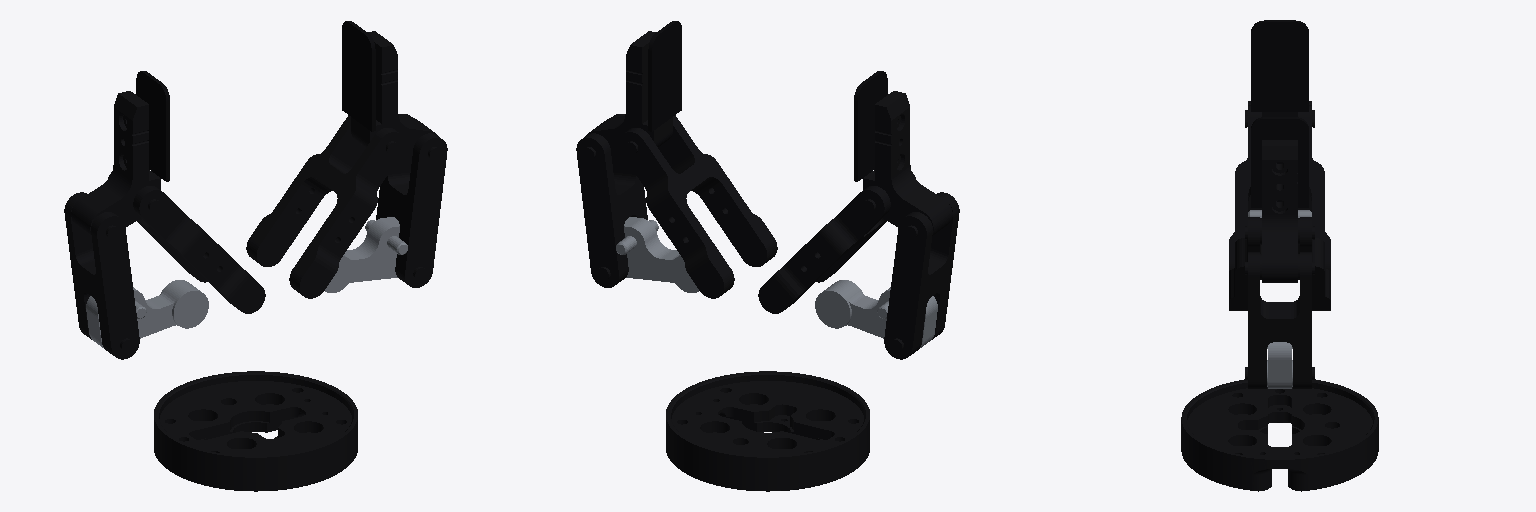
URDF robot description (robotiq_2f85):
<?xml version='1.0' encoding='utf-8'?>
<robot name="robotiq_2f85">
  <mujoco>
    <compiler discardvisual="false" fusestatic="false" />
  </mujoco>
  <link name="robotiq_2f85_mount" />
  <link name="robotiq_2f85_base_mount">
    <visual>
      <origin xyz="0 0 0" rpy="0 0 0" />
      <geometry>
        <mesh filename="robotiq_2f85_meshes/base_mount.obj" />
      </geometry>
      <material name="base_mount_material">
        <color rgba="0.1 0.1 0.11 1" />
      </material>
    </visual>
    <collision>
      <origin xyz="0 0 0" rpy="0 0 0" />
      <geometry>
        <mesh filename="robotiq_2f85_meshes/base_mount.obj" />
      </geometry>
    </collision>
  </link>
  <link name="robotiq_2f85_base">
    <inertial>
      <origin xyz="0 0 0" rpy="0 0 0" />
      <mass value="0.777441" />
      <inertia ixx="0.000260285" ixy="0" ixz="0" iyy="0.000225381" iyz="0" izz="0.000152708" />
    </inertial>
    <visual>
      <origin xyz="0 0 0" rpy="0 0 0" />
      <geometry>
        <mesh filename="robotiq_2f85_meshes/base.obj" />
      </geometry>
      <material name="base_material">
        <color rgba="0.1 0.1 0.11 1" />
      </material>
    </visual>
    <collision>
      <origin xyz="0 0 0" rpy="0 0 0" />
      <geometry>
        <mesh filename="robotiq_2f85_meshes/base.obj" />
      </geometry>
    </collision>
  </link>
  <joint name="robotiq_2f85_base_mount_joint" type="fixed">
    <origin xyz="0 0 0.007" rpy="0 0 0" />
    <parent link="robotiq_2f85_mount" />
    <child link="robotiq_2f85_base_mount" />
  </joint>
  <joint name="robotiq_2f85_base_joint" type="fixed">
    <origin xyz="0 0 0.0038" rpy="0 0 -1.57079633" />
    <parent link="robotiq_2f85_base_mount" />
    <child link="robotiq_2f85_base" />
  </joint>
  <link name="robotiq_2f85_right_driver">
    <inertial>
      <origin xyz="0 0 0" rpy="0 0 0" />
      <mass value="0.00899563" />
      <inertia ixx="1e-06" ixy="0" ixz="0" iyy="1e-06" iyz="0" izz="1e-06" />
    </inertial>
    <visual>
      <origin xyz="0 0 0" rpy="0 0 0" />
      <geometry>
        <mesh filename="robotiq_2f85_meshes/driver.obj" />
      </geometry>
      <material name="driver_material">
        <color rgba="0.5 0.52 0.55 1" />
      </material>
    </visual>
    <collision>
      <origin xyz="0 0 0" rpy="0 0 0" />
      <geometry>
        <mesh filename="robotiq_2f85_meshes/driver.obj" />
      </geometry>
    </collision>
  </link>
  <link name="robotiq_2f85_right_coupler">
    <inertial>
      <origin xyz="0 0 0" rpy="0 0 0" />
      <mass value="0.0140974" />
      <inertia ixx="1e-06" ixy="0" ixz="0" iyy="1e-06" iyz="0" izz="1e-06" />
    </inertial>
    <visual>
      <origin xyz="0 0 0" rpy="0 0 0" />
      <geometry>
        <mesh filename="robotiq_2f85_meshes/coupler.obj" />
      </geometry>
      <material name="coupler_material">
        <color rgba="0.1 0.1 0.11 1" />
      </material>
    </visual>
    <collision>
      <origin xyz="0 0 0" rpy="0 0 0" />
      <geometry>
        <mesh filename="robotiq_2f85_meshes/coupler.obj" />
      </geometry>
    </collision>
  </link>
  <link name="robotiq_2f85_right_spring_link">
    <inertial>
      <origin xyz="0 0 0" rpy="0 0 0" />
      <mass value="0.0221642" />
      <inertia ixx="1e-06" ixy="0" ixz="0" iyy="1e-06" iyz="0" izz="1e-06" />
    </inertial>
    <visual>
      <origin xyz="0 0 0" rpy="0 0 0" />
      <geometry>
        <mesh filename="robotiq_2f85_meshes/spring_link.obj" />
      </geometry>
      <material name="spring_link_material">
        <color rgba="0.1 0.1 0.11 1" />
      </material>
    </visual>
    <collision>
      <origin xyz="0 0 0" rpy="0 0 0" />
      <geometry>
        <mesh filename="robotiq_2f85_meshes/spring_link.obj" />
      </geometry>
    </collision>
  </link>
  <link name="robotiq_2f85_right_follower">
    <inertial>
      <origin xyz="0 0 0" rpy="0 0 0" />
      <mass value="0.0125222" />
      <inertia ixx="1e-06" ixy="0" ixz="0" iyy="1e-06" iyz="0" izz="1e-06" />
    </inertial>
    <visual>
      <origin xyz="0 0 0" rpy="0 0 0" />
      <geometry>
        <mesh filename="robotiq_2f85_meshes/follower.obj" />
      </geometry>
      <material name="follower_material">
        <color rgba="0.1 0.1 0.11 1" />
      </material>
    </visual>
    <collision>
      <origin xyz="0 0 0" rpy="0 0 0" />
      <geometry>
        <mesh filename="robotiq_2f85_meshes/follower.obj" />
      </geometry>
    </collision>
  </link>
  <link name="robotiq_2f85_right_pad">
    <inertial>
      <origin xyz="0 0 0" rpy="0 0 0" />
      <mass value="0.0035" />
      <inertia ixx="1e-06" ixy="0" ixz="0" iyy="1e-06" iyz="0" izz="1e-06" />
    </inertial>
    <visual>
      <origin xyz="0 0 0" rpy="0 0 0" />
      <geometry>
        <mesh filename="robotiq_2f85_meshes/pad.obj" />
      </geometry>
      <material name="pad_material">
        <color rgba="0.42 0.43 0.45 1" />
      </material>
    </visual>
    <collision>
      <origin xyz="0 0 0" rpy="0 0 0" />
      <geometry>
        <mesh filename="robotiq_2f85_meshes/pad.obj" />
      </geometry>
    </collision>
    <collision>
      <origin xyz="0 -0.0026 0.028125" rpy="0 0 0" />
      <geometry>
        <box size="0.022 0.008 0.01875" />
      </geometry>
    </collision>
    <collision>
      <origin xyz="0 -0.0026 0.009375" rpy="0 0 0" />
      <geometry>
        <box size="0.022 0.008 0.01875" />
      </geometry>
    </collision>
  </link>
  <link name="robotiq_2f85_right_silicone_pad">
    <inertial>
      <origin xyz="0 0 0" rpy="0 0 0" />
      <mass value="0.0005" />
      <inertia ixx="1e-06" ixy="0" ixz="0" iyy="1e-06" iyz="0" izz="1e-06" />
    </inertial>
    <visual>
      <origin xyz="0 0 0" rpy="0 0 0" />
      <geometry>
        <mesh filename="robotiq_2f85_meshes/silicone_pad.obj" />
      </geometry>
      <material name="silicone_pad_material">
        <color rgba="0.08 0.08 0.09 1" />
      </material>
    </visual>
    <collision>
      <origin xyz="0 0 0" rpy="0 0 0" />
      <geometry>
        <mesh filename="robotiq_2f85_meshes/silicone_pad.obj" />
      </geometry>
    </collision>
  </link>
  <joint name="robotiq_2f85_right_driver_joint" type="revolute">
    <origin xyz="0 0.0306011 0.054904" rpy="0 0 0" />
    <parent link="robotiq_2f85_base" />
    <child link="robotiq_2f85_right_driver" />
    <axis xyz="1 0 0" />
    <limit lower="0" upper="0.8" effort="20" velocity="2" />
    <dynamics damping="0.05" friction="0.01" />
  </joint>
  <joint name="robotiq_2f85_right_coupler_joint" type="revolute">
    <origin xyz="0 0.0315 -0.0041" rpy="0 0 0" />
    <parent link="robotiq_2f85_right_driver" />
    <child link="robotiq_2f85_right_coupler" />
    <axis xyz="1 0 0" />
    <limit lower="-1.57" upper="0" effort="20" velocity="2" />
    <dynamics damping="0.05" friction="0.01" />
  </joint>
  <joint name="robotiq_2f85_right_spring_link_joint" type="revolute">
    <origin xyz="0 0.0132 0.0609" rpy="0 0 0" />
    <parent link="robotiq_2f85_base" />
    <child link="robotiq_2f85_right_spring_link" />
    <axis xyz="1 0 0" />
    <limit lower="-0.296706" upper="0.8" effort="20" velocity="2" />
    <dynamics damping="0.05" friction="0.01" />
  </joint>
  <joint name="robotiq_2f85_right_follower_joint" type="revolute">
    <origin xyz="0 0.055 0.0375" rpy="0 0 0" />
    <parent link="robotiq_2f85_right_spring_link" />
    <child link="robotiq_2f85_right_follower" />
    <axis xyz="1 0 0" />
    <limit lower="-0.872665" upper="0.872665" effort="20" velocity="2" />
    <dynamics damping="0.05" friction="0.01" />
  </joint>
  <joint name="robotiq_2f85_right_pad_joint" type="fixed">
    <origin xyz="0 -0.0189 0.01352" rpy="0 0 0" />
    <parent link="robotiq_2f85_right_follower" />
    <child link="robotiq_2f85_right_pad" />
  </joint>
  <joint name="robotiq_2f85_right_silicone_pad_joint" type="fixed">
    <origin xyz="0 0 0" rpy="0 0 0" />
    <parent link="robotiq_2f85_right_pad" />
    <child link="robotiq_2f85_right_silicone_pad" />
  </joint>
  <link name="robotiq_2f85_left_driver">
    <inertial>
      <origin xyz="0 0 0" rpy="0 0 0" />
      <mass value="0.00899563" />
      <inertia ixx="1e-06" ixy="0" ixz="0" iyy="1e-06" iyz="0" izz="1e-06" />
    </inertial>
    <visual>
      <origin xyz="0 0 0" rpy="0 0 0" />
      <geometry>
        <mesh filename="robotiq_2f85_meshes/driver.obj" />
      </geometry>
      <material name="driver_material">
        <color rgba="0.5 0.52 0.55 1" />
      </material>
    </visual>
    <collision>
      <origin xyz="0 0 0" rpy="0 0 0" />
      <geometry>
        <mesh filename="robotiq_2f85_meshes/driver.obj" />
      </geometry>
    </collision>
  </link>
  <link name="robotiq_2f85_left_coupler">
    <inertial>
      <origin xyz="0 0 0" rpy="0 0 0" />
      <mass value="0.0140974" />
      <inertia ixx="1e-06" ixy="0" ixz="0" iyy="1e-06" iyz="0" izz="1e-06" />
    </inertial>
    <visual>
      <origin xyz="0 0 0" rpy="0 0 0" />
      <geometry>
        <mesh filename="robotiq_2f85_meshes/coupler.obj" />
      </geometry>
      <material name="coupler_material">
        <color rgba="0.1 0.1 0.11 1" />
      </material>
    </visual>
    <collision>
      <origin xyz="0 0 0" rpy="0 0 0" />
      <geometry>
        <mesh filename="robotiq_2f85_meshes/coupler.obj" />
      </geometry>
    </collision>
  </link>
  <link name="robotiq_2f85_left_spring_link">
    <inertial>
      <origin xyz="0 0 0" rpy="0 0 0" />
      <mass value="0.0221642" />
      <inertia ixx="1e-06" ixy="0" ixz="0" iyy="1e-06" iyz="0" izz="1e-06" />
    </inertial>
    <visual>
      <origin xyz="0 0 0" rpy="0 0 0" />
      <geometry>
        <mesh filename="robotiq_2f85_meshes/spring_link.obj" />
      </geometry>
      <material name="spring_link_material">
        <color rgba="0.1 0.1 0.11 1" />
      </material>
    </visual>
    <collision>
      <origin xyz="0 0 0" rpy="0 0 0" />
      <geometry>
        <mesh filename="robotiq_2f85_meshes/spring_link.obj" />
      </geometry>
    </collision>
  </link>
  <link name="robotiq_2f85_left_follower">
    <inertial>
      <origin xyz="0 0 0" rpy="0 0 0" />
      <mass value="0.0125222" />
      <inertia ixx="1e-06" ixy="0" ixz="0" iyy="1e-06" iyz="0" izz="1e-06" />
    </inertial>
    <visual>
      <origin xyz="0 0 0" rpy="0 0 0" />
      <geometry>
        <mesh filename="robotiq_2f85_meshes/follower.obj" />
      </geometry>
      <material name="follower_material">
        <color rgba="0.1 0.1 0.11 1" />
      </material>
    </visual>
    <collision>
      <origin xyz="0 0 0" rpy="0 0 0" />
      <geometry>
        <mesh filename="robotiq_2f85_meshes/follower.obj" />
      </geometry>
    </collision>
  </link>
  <link name="robotiq_2f85_left_pad">
    <inertial>
      <origin xyz="0 0 0" rpy="0 0 0" />
      <mass value="0.0035" />
      <inertia ixx="1e-06" ixy="0" ixz="0" iyy="1e-06" iyz="0" izz="1e-06" />
    </inertial>
    <visual>
      <origin xyz="0 0 0" rpy="0 0 0" />
      <geometry>
        <mesh filename="robotiq_2f85_meshes/pad.obj" />
      </geometry>
      <material name="pad_material">
        <color rgba="0.42 0.43 0.45 1" />
      </material>
    </visual>
    <collision>
      <origin xyz="0 0 0" rpy="0 0 0" />
      <geometry>
        <mesh filename="robotiq_2f85_meshes/pad.obj" />
      </geometry>
    </collision>
    <collision>
      <origin xyz="0 -0.0026 0.028125" rpy="0 0 0" />
      <geometry>
        <box size="0.022 0.008 0.01875" />
      </geometry>
    </collision>
    <collision>
      <origin xyz="0 -0.0026 0.009375" rpy="0 0 0" />
      <geometry>
        <box size="0.022 0.008 0.01875" />
      </geometry>
    </collision>
  </link>
  <link name="robotiq_2f85_left_silicone_pad">
    <inertial>
      <origin xyz="0 0 0" rpy="0 0 0" />
      <mass value="0.0005" />
      <inertia ixx="1e-06" ixy="0" ixz="0" iyy="1e-06" iyz="0" izz="1e-06" />
    </inertial>
    <visual>
      <origin xyz="0 0 0" rpy="0 0 0" />
      <geometry>
        <mesh filename="robotiq_2f85_meshes/silicone_pad.obj" />
      </geometry>
      <material name="silicone_pad_material">
        <color rgba="0.08 0.08 0.09 1" />
      </material>
    </visual>
    <collision>
      <origin xyz="0 0 0" rpy="0 0 0" />
      <geometry>
        <mesh filename="robotiq_2f85_meshes/silicone_pad.obj" />
      </geometry>
    </collision>
  </link>
  <joint name="robotiq_2f85_left_driver_joint" type="revolute">
    <origin xyz="0 -0.0306011 0.054904" rpy="0 0 3.14159265" />
    <parent link="robotiq_2f85_base" />
    <child link="robotiq_2f85_left_driver" />
    <axis xyz="1 0 0" />
    <limit lower="0" upper="0.8" effort="20" velocity="2" />
    <dynamics damping="0.05" friction="0.01" />
    <mimic joint="robotiq_2f85_right_driver_joint" multiplier="1" offset="0" />
  </joint>
  <joint name="robotiq_2f85_left_coupler_joint" type="revolute">
    <origin xyz="0 0.0315 -0.0041" rpy="0 0 0" />
    <parent link="robotiq_2f85_left_driver" />
    <child link="robotiq_2f85_left_coupler" />
    <axis xyz="1 0 0" />
    <limit lower="-1.57" upper="0" effort="20" velocity="2" />
    <dynamics damping="0.05" friction="0.01" />
    <mimic joint="robotiq_2f85_right_coupler_joint" multiplier="1" offset="0" />
  </joint>
  <joint name="robotiq_2f85_left_spring_link_joint" type="revolute">
    <origin xyz="0 -0.0132 0.0609" rpy="0 0 3.14159265" />
    <parent link="robotiq_2f85_base" />
    <child link="robotiq_2f85_left_spring_link" />
    <axis xyz="1 0 0" />
    <limit lower="-0.296706" upper="0.8" effort="20" velocity="2" />
    <dynamics damping="0.05" friction="0.01" />
    <mimic joint="robotiq_2f85_right_spring_link_joint" multiplier="1" offset="0" />
  </joint>
  <joint name="robotiq_2f85_left_follower_joint" type="revolute">
    <origin xyz="0 0.055 0.0375" rpy="0 0 0" />
    <parent link="robotiq_2f85_left_spring_link" />
    <child link="robotiq_2f85_left_follower" />
    <axis xyz="1 0 0" />
    <limit lower="-0.872665" upper="0.872665" effort="20" velocity="2" />
    <dynamics damping="0.05" friction="0.01" />
    <mimic joint="robotiq_2f85_right_follower_joint" multiplier="1" offset="0" />
  </joint>
  <joint name="robotiq_2f85_left_pad_joint" type="fixed">
    <origin xyz="0 -0.0189 0.01352" rpy="0 0 0" />
    <parent link="robotiq_2f85_left_follower" />
    <child link="robotiq_2f85_left_pad" />
  </joint>
  <joint name="robotiq_2f85_left_silicone_pad_joint" type="fixed">
    <origin xyz="0 0 0" rpy="0 0 0" />
    <parent link="robotiq_2f85_left_pad" />
    <child link="robotiq_2f85_left_silicone_pad" />
  </joint>
</robot>

--- What the picture shows (computed from the rendered views, not written in the file) ---
The picture shows the robot from 3 angles, left to right: view 1: azimuth 30°, elevation 25°; view 2: azimuth 150°, elevation 25°; view 3: azimuth 270°, elevation 25°; orthographic projection.
Robot: robotiq_2f85 — 15 links, 14 joints (8 revolute, 6 fixed); root link robotiq_2f85_mount; default pose: all joints at 0.
Visible links, largest first — view 1: robotiq_2f85_base_mount, robotiq_2f85_right_spring_link, robotiq_2f85_left_coupler, robotiq_2f85_right_coupler, robotiq_2f85_left_spring_link, robotiq_2f85_left_follower, robotiq_2f85_left_driver, robotiq_2f85_right_silicone_pad, robotiq_2f85_right_follower, robotiq_2f85_right_driver, robotiq_2f85_left_silicone_pad; view 2: robotiq_2f85_base_mount, robotiq_2f85_right_spring_link, robotiq_2f85_left_coupler, robotiq_2f85_right_coupler, robotiq_2f85_left_spring_link, robotiq_2f85_left_follower, robotiq_2f85_left_driver, robotiq_2f85_right_silicone_pad, robotiq_2f85_right_follower, robotiq_2f85_right_driver, robotiq_2f85_left_silicone_pad; view 3: robotiq_2f85_base_mount, robotiq_2f85_right_coupler, robotiq_2f85_right_follower, robotiq_2f85_left_silicone_pad, robotiq_2f85_right_spring_link, robotiq_2f85_left_spring_link, robotiq_2f85_right_silicone_pad, robotiq_2f85_right_driver.
Link boxes in pixels (box(x1,y1,x2,y2)): robotiq_2f85_base_mount: box(154, 371, 357, 491); robotiq_2f85_right_spring_link: box(246, 115, 404, 298); robotiq_2f85_left_coupler: box(64, 192, 139, 359); robotiq_2f85_right_coupler: box(376, 114, 447, 287); robotiq_2f85_left_spring_link: box(108, 172, 265, 313); robotiq_2f85_left_follower: box(71, 91, 160, 235); robotiq_2f85_left_driver: box(86, 280, 208, 347); robotiq_2f85_right_silicone_pad: box(342, 21, 375, 131); robotiq_2f85_right_follower: box(351, 31, 437, 159); robotiq_2f85_right_driver: box(325, 217, 407, 292); robotiq_2f85_left_silicone_pad: box(136, 71, 169, 181); robotiq_2f85_base_mount: box(666, 371, 869, 491); robotiq_2f85_right_spring_link: box(619, 115, 777, 298); robotiq_2f85_left_coupler: box(884, 192, 959, 359); robotiq_2f85_right_coupler: box(576, 114, 647, 287); robotiq_2f85_left_spring_link: box(758, 172, 915, 313); robotiq_2f85_left_follower: box(863, 91, 952, 235); robotiq_2f85_left_driver: box(815, 280, 937, 347); robotiq_2f85_right_silicone_pad: box(648, 21, 681, 131); robotiq_2f85_right_follower: box(586, 31, 672, 159); robotiq_2f85_right_driver: box(616, 217, 698, 292); robotiq_2f85_left_silicone_pad: box(854, 71, 887, 181); robotiq_2f85_base_mount: box(1181, 379, 1378, 491); robotiq_2f85_right_coupler: box(1245, 252, 1314, 388); robotiq_2f85_right_follower: box(1260, 140, 1299, 282); robotiq_2f85_left_silicone_pad: box(1251, 20, 1308, 111); robotiq_2f85_right_spring_link: box(1229, 217, 1330, 310); robotiq_2f85_left_spring_link: box(1229, 105, 1330, 270); robotiq_2f85_right_silicone_pad: box(1251, 117, 1308, 207); robotiq_2f85_right_driver: box(1267, 342, 1292, 388).
Bounding box of the posed robot: 0.1484 × 0.075 × 0.1602 m (x, y, z).
11 mesh visuals loaded from 8 distinct referenced files (6 OBJ); not drawn: 3 (reference not matched to a file when rendering).
